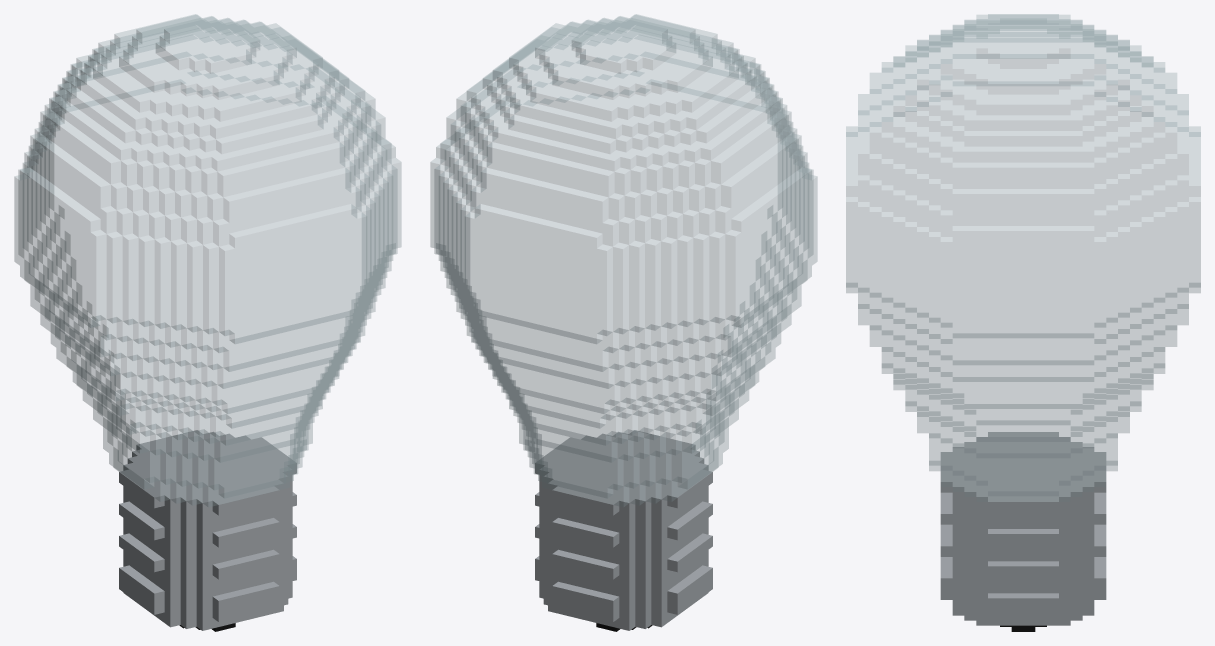
The model's file is light_bulb.glb.
The picture shows the model from 3 angles, left to right: view 1: azimuth 30°, elevation 25°; view 2: azimuth 150°, elevation 25°; view 3: azimuth 270°, elevation 25°; orthographic projection.
Visible parts, largest first — view 1: light_bulb:compound; view 2: light_bulb:compound; view 3: light_bulb:compound.
Part boxes in pixels (x1,y1,x2,y2): light_bulb:compound: (14,14,401,631); light_bulb:compound: (430,14,817,631); light_bulb:compound: (846,14,1200,631).
Bounding box in the file's own units: 0.06 × 0.108 × 0.06.
